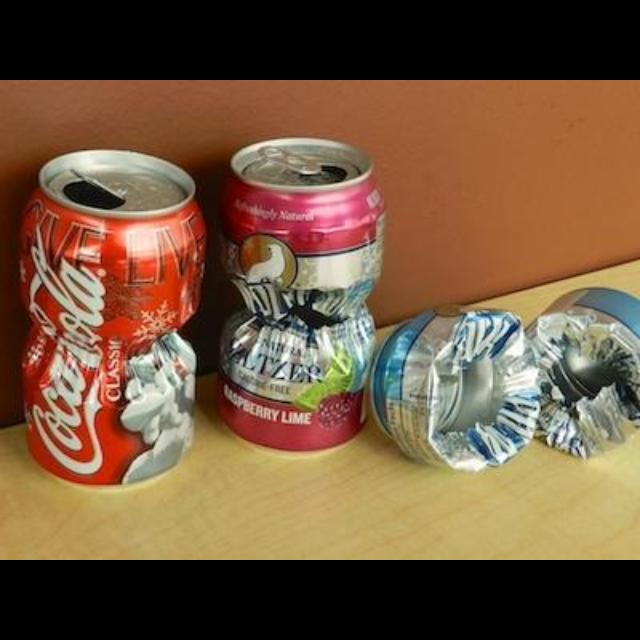aba de lata: (258, 146, 320, 176), (70, 168, 124, 200)
lata: (18, 151, 204, 487), (219, 136, 381, 452)
